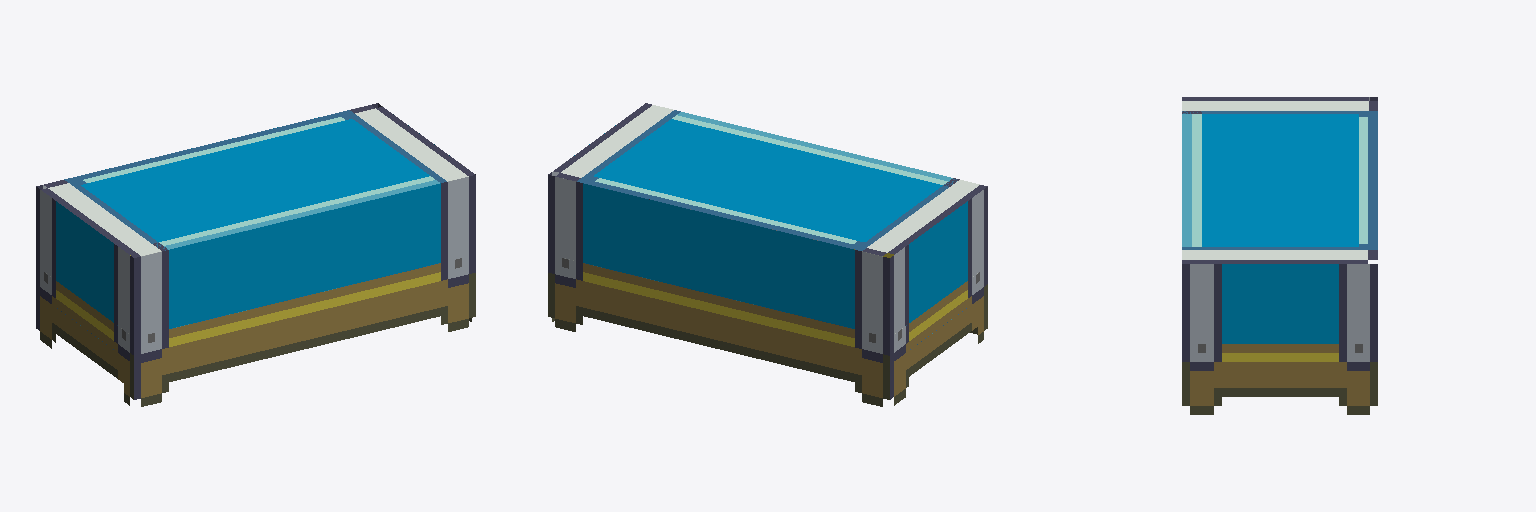
3 renders of one model, left to right at view 1: azimuth 30°, elevation 25°; view 2: azimuth 150°, elevation 25°; view 3: azimuth 270°, elevation 25°, orthographic.
Parts seen in each view (by area): view 1: Cube_Cube.001; view 2: Cube_Cube.001; view 3: Cube_Cube.001.
Boxes of the visible parts, box(x1,y1,x2,y2) form: Cube_Cube.001: box(36, 103, 475, 406); Cube_Cube.001: box(548, 103, 987, 406); Cube_Cube.001: box(1182, 97, 1377, 414).
Size of the model in its own units: 4.02 by 1.7 by 2.
3 materials, 1 textured.